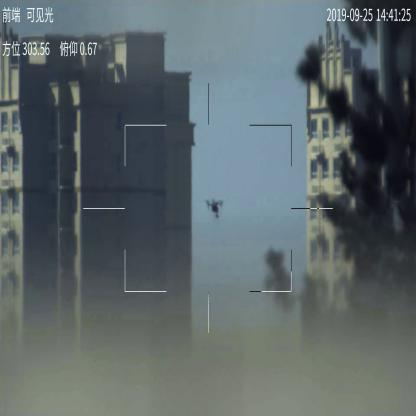uav: (204, 192, 227, 221)
